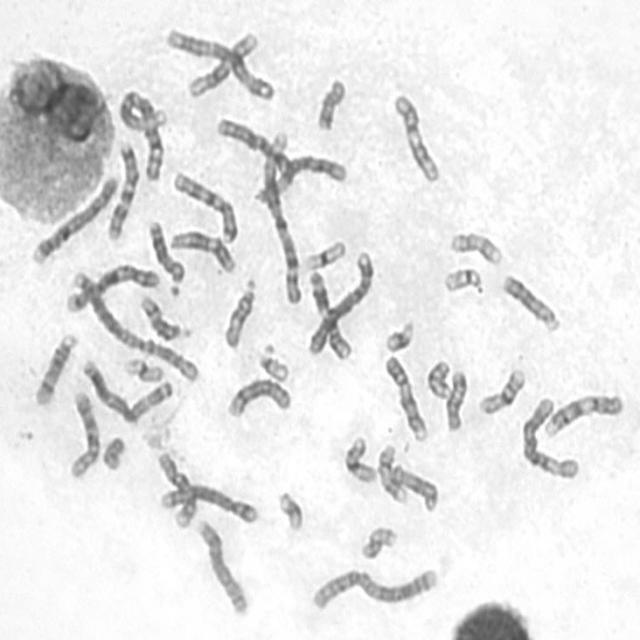A1: (257, 128, 304, 308), (113, 84, 168, 183)
A2: (67, 264, 201, 386), (306, 560, 442, 613)
A3: (162, 22, 275, 102), (78, 354, 175, 426)
B4: (27, 168, 121, 267), (303, 247, 376, 357)
B5: (61, 262, 162, 314), (156, 478, 260, 525)
C10: (152, 446, 199, 530), (64, 385, 101, 481)
C11: (389, 89, 442, 184), (304, 265, 352, 361)
C12: (184, 26, 260, 100), (165, 225, 238, 276)
C6: (518, 392, 582, 481), (252, 150, 349, 205)
C7: (168, 166, 239, 245), (102, 138, 142, 244)
C8: (190, 514, 250, 618), (223, 373, 293, 420)
C9: (539, 387, 626, 441), (380, 350, 430, 442)
D13: (498, 269, 562, 335), (144, 214, 187, 284)
D14: (30, 328, 80, 408), (136, 291, 187, 344)
D15: (219, 273, 259, 352), (387, 460, 440, 514)
E16: (474, 362, 527, 417), (339, 431, 378, 486)
E17: (446, 226, 504, 267), (374, 440, 409, 506)
E18: (312, 73, 348, 133), (442, 365, 469, 434)
F19: (299, 235, 347, 272), (120, 352, 166, 384)
F20: (356, 521, 398, 562), (423, 355, 453, 401)
G21: (273, 484, 306, 534), (381, 315, 416, 355)
G22: (254, 340, 290, 384), (440, 262, 484, 294)
X: (212, 114, 296, 183)
Y: (98, 431, 127, 472)
